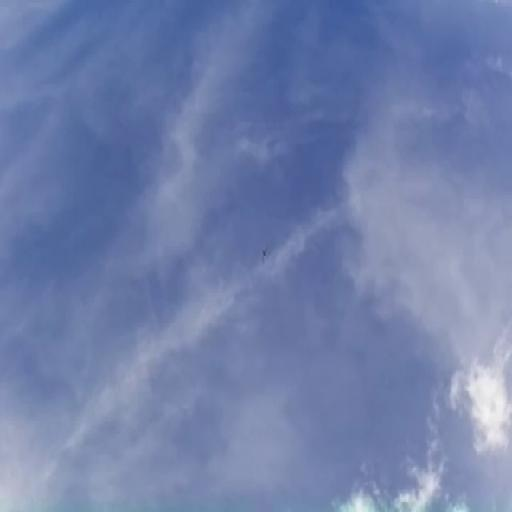drones: (258, 242, 273, 269)
